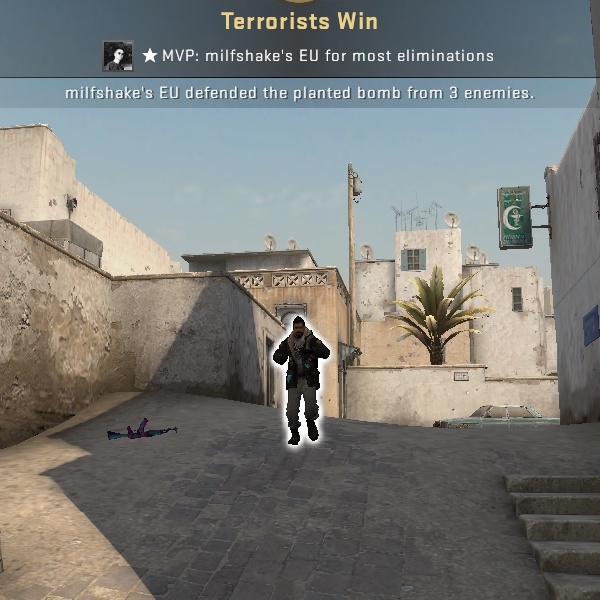t_body: (267, 315, 338, 449)
